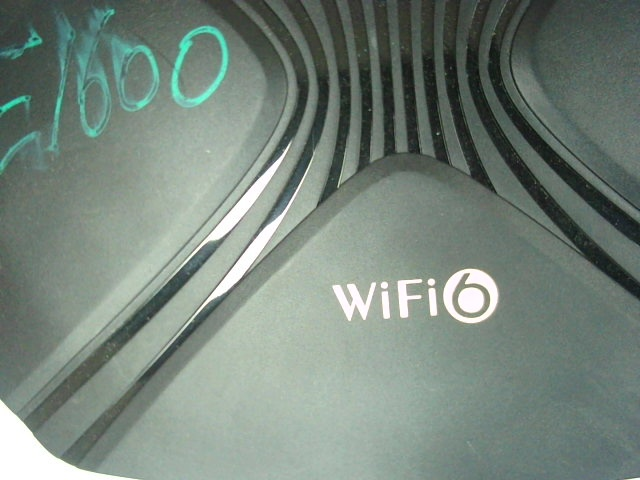AK_ZTEWIFI6Black: (314, 258, 514, 338)
